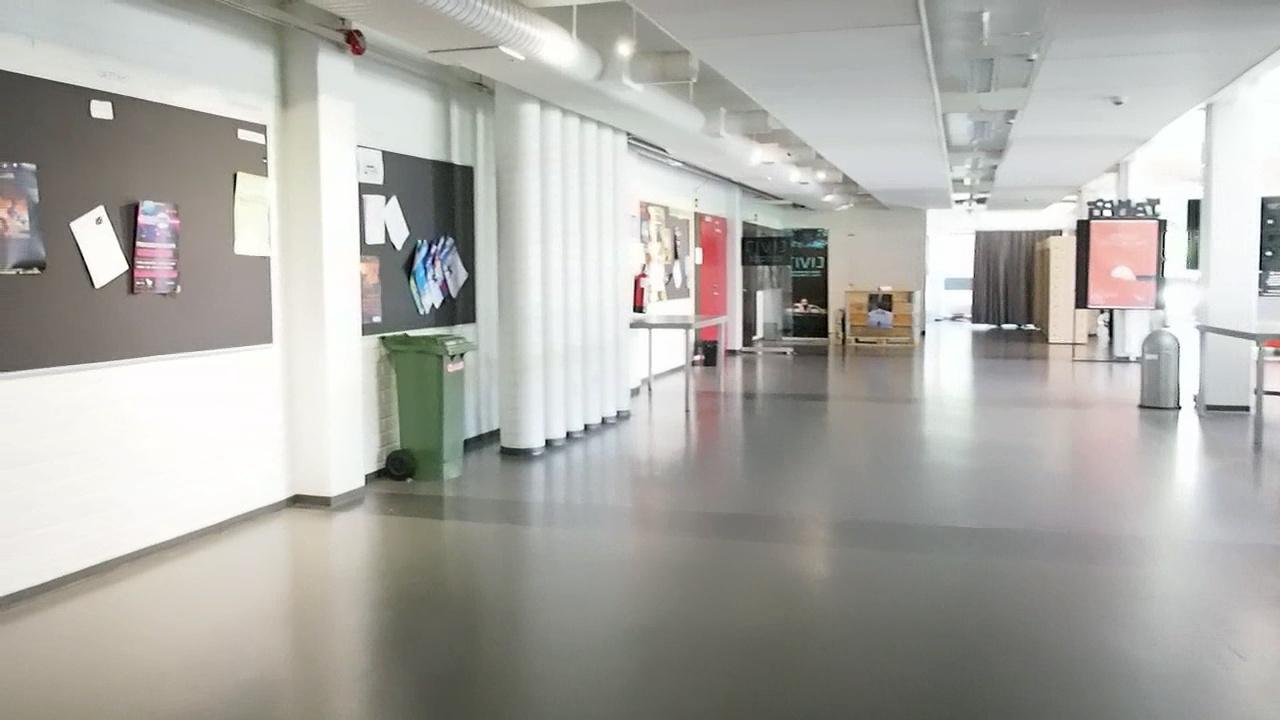trashbin: (372, 320, 479, 490)
